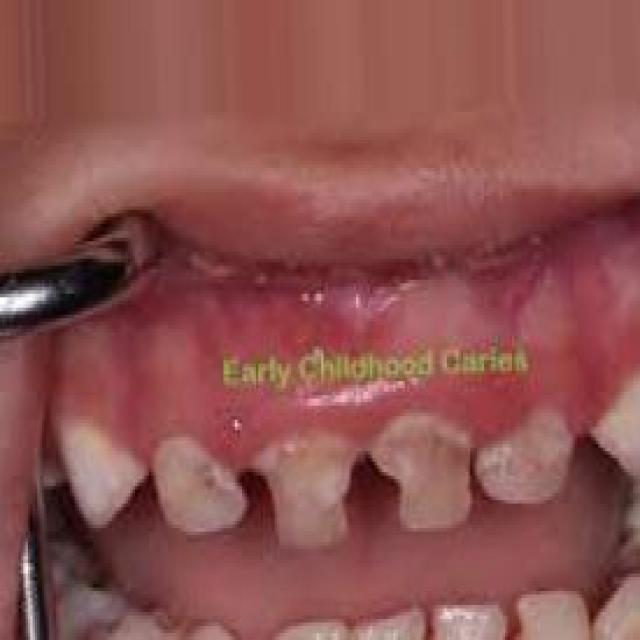caries: (358, 412, 477, 550), (156, 439, 253, 563), (244, 458, 363, 558)
